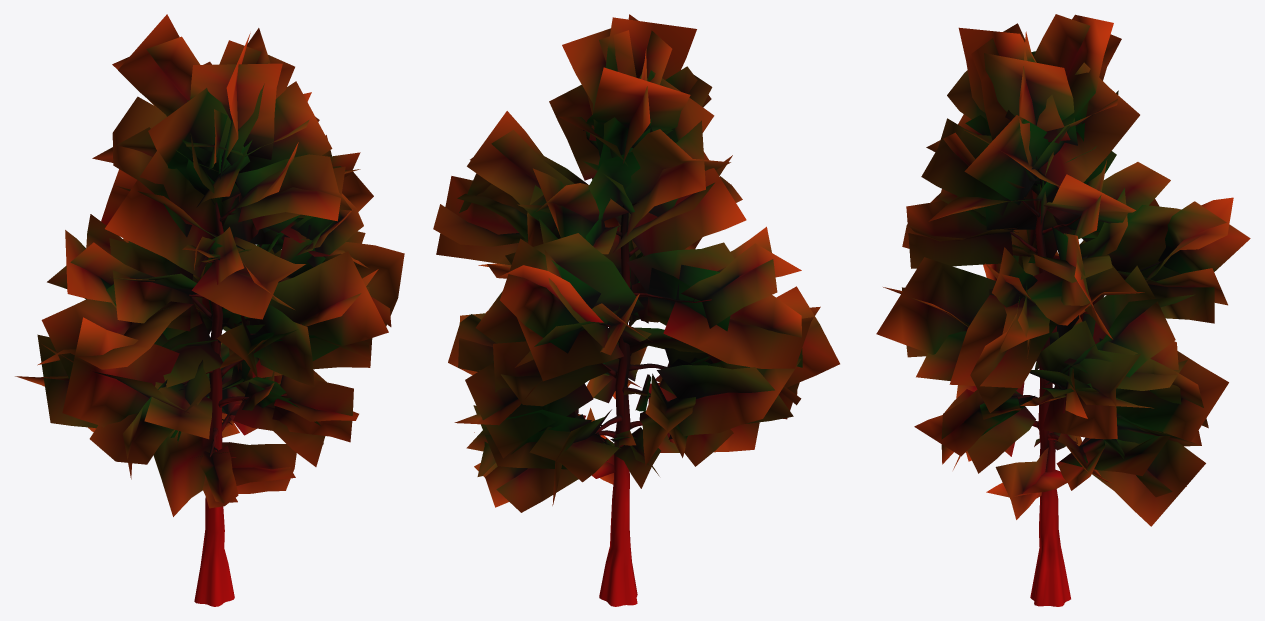
File: BeechTree05Winter.fbx
The picture shows the model from 3 angles, left to right: view 1: azimuth 30°, elevation 25°; view 2: azimuth 150°, elevation 25°; view 3: azimuth 270°, elevation 25°; orthographic projection. The views are drawn at different scales.
Visible parts, largest first — view 1: BeechTree05Winter_Leaves_LOD0, BeechTree05Winter_Bark_LOD0; view 2: BeechTree05Winter_Leaves_LOD0, BeechTree05Winter_Bark_LOD0; view 3: BeechTree05Winter_Leaves_LOD0, BeechTree05Winter_Bark_LOD0.
Part boxes in pixels (left/top/right/bottom): BeechTree05Winter_Leaves_LOD0: left=15, top=14, right=404, bottom=516; BeechTree05Winter_Bark_LOD0: left=183, top=202, right=301, bottom=606; BeechTree05Winter_Leaves_LOD0: left=433, top=14, right=839, bottom=512; BeechTree05Winter_Bark_LOD0: left=595, top=202, right=711, bottom=606; BeechTree05Winter_Leaves_LOD0: left=876, top=14, right=1250, bottom=526; BeechTree05Winter_Bark_LOD0: left=1009, top=156, right=1161, bottom=606.
Size of what is drawn, in the model's own units: 11.13 by 17.12 by 10.05.
